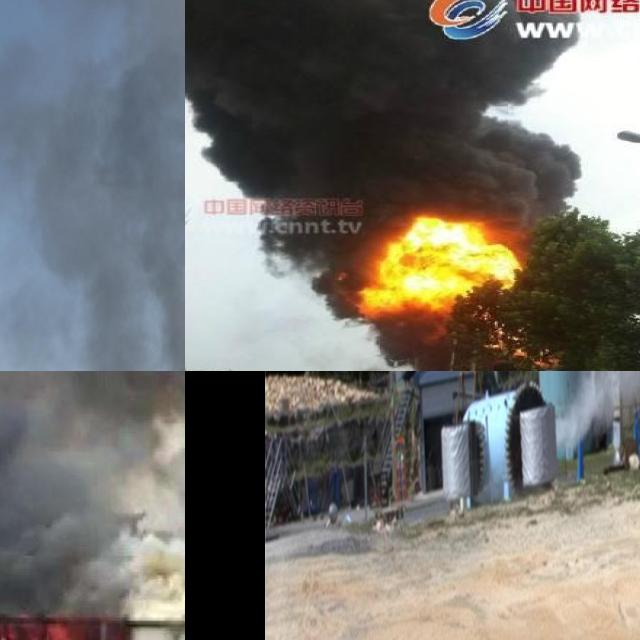fire: (358, 214, 524, 312)
smoke: (185, 0, 581, 368), (0, 0, 185, 371), (0, 371, 185, 610), (556, 371, 640, 445)
